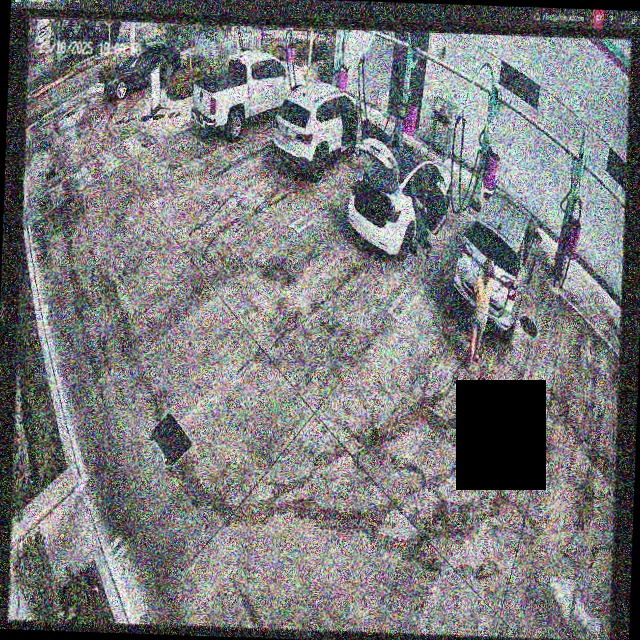Car: (453, 190, 539, 343), (347, 135, 450, 258), (273, 84, 372, 183)
